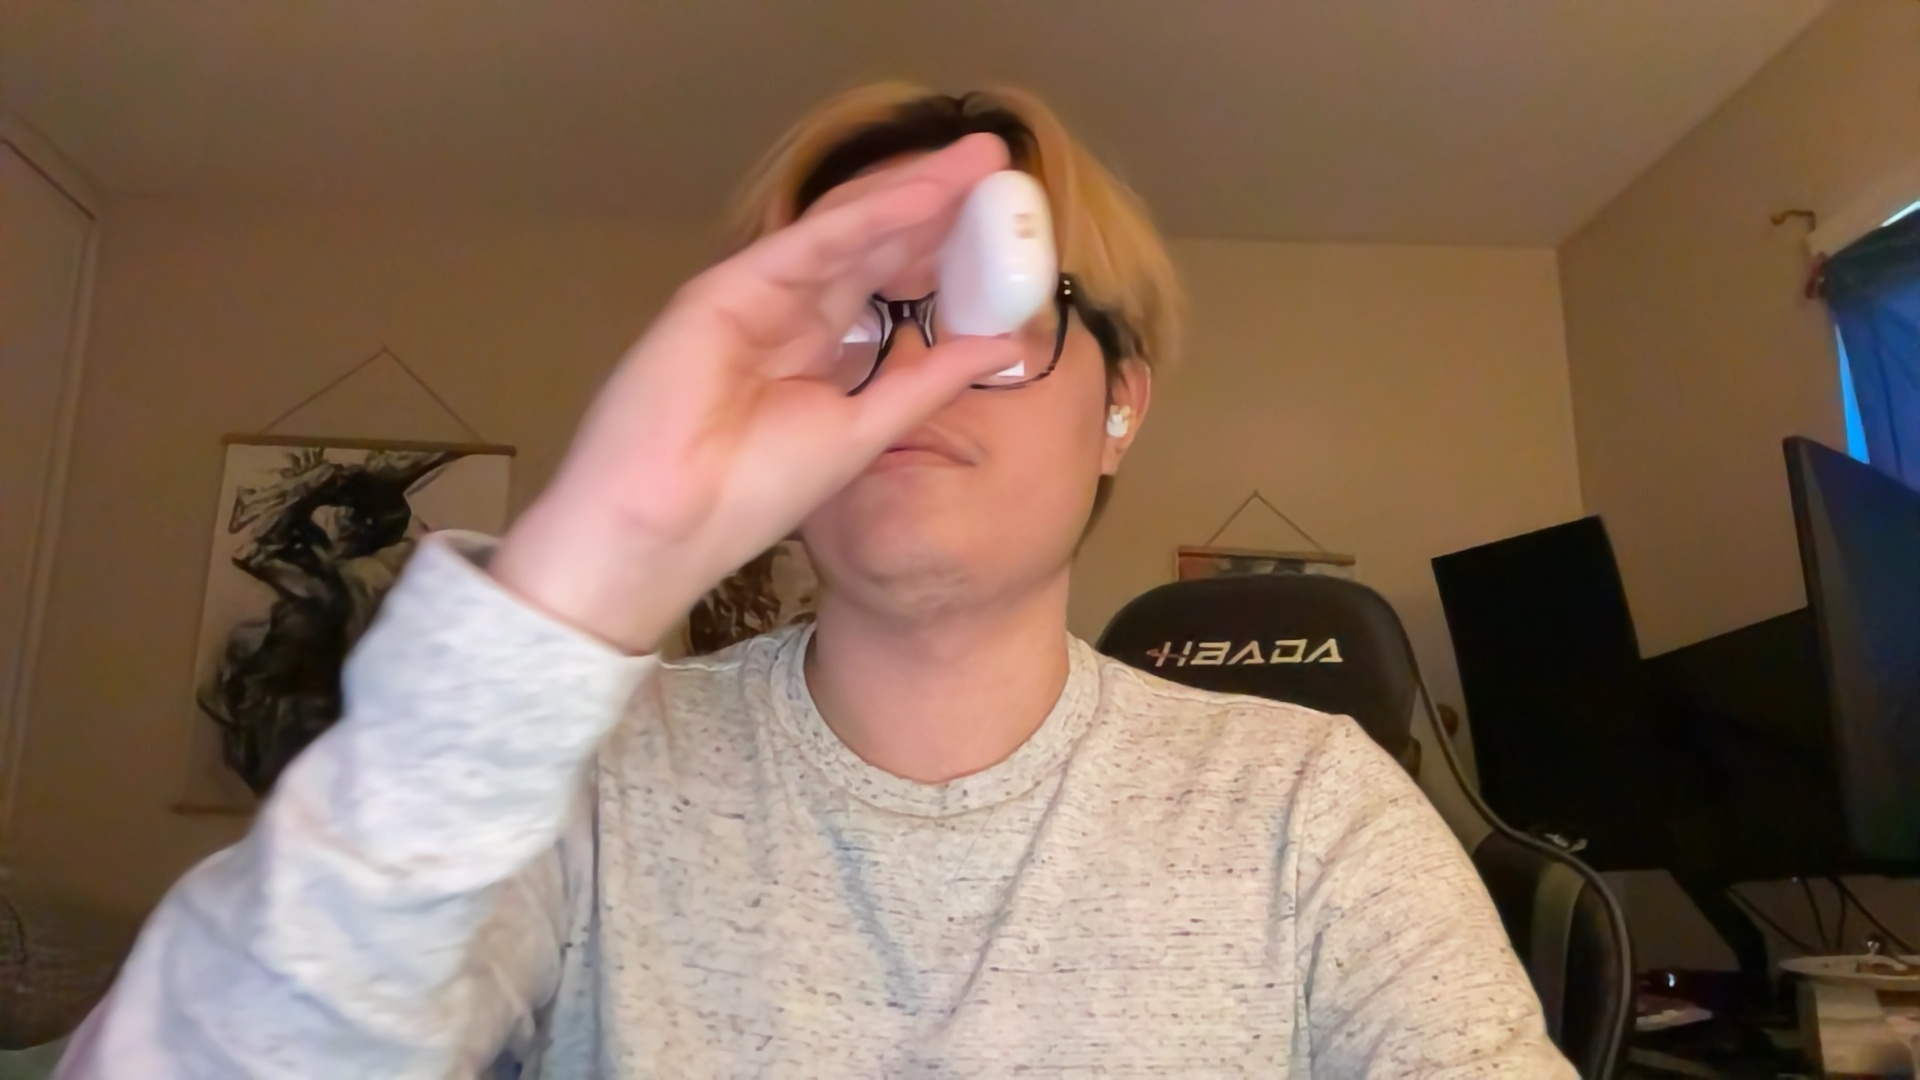airpods: (939, 165, 1054, 342)
